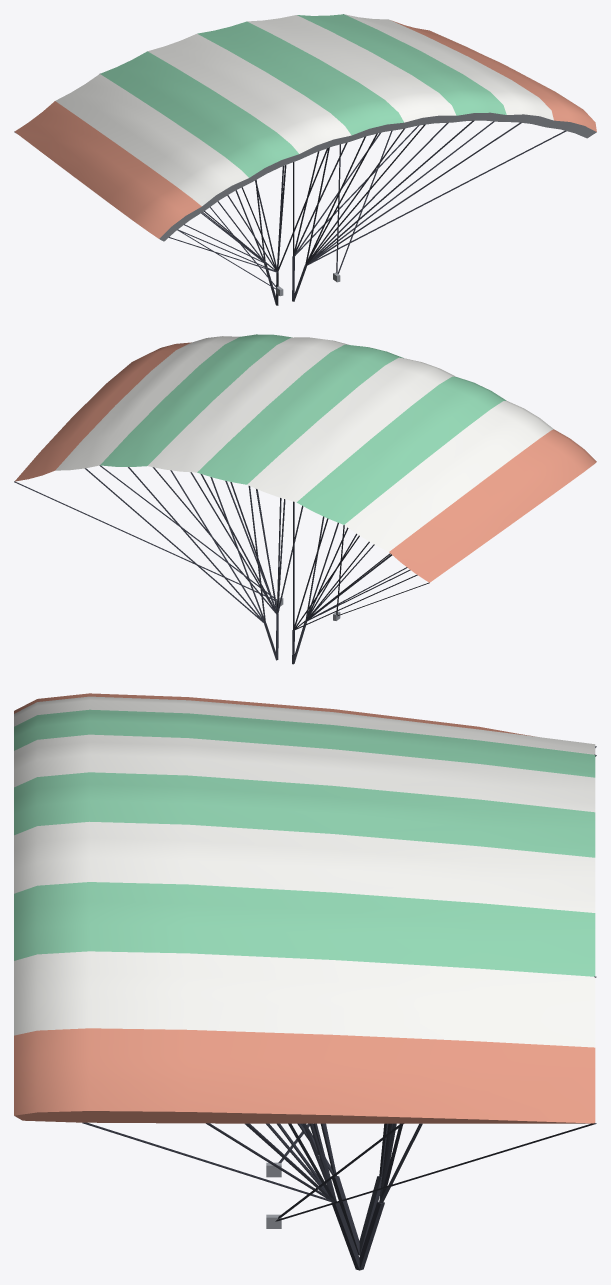
File: paracaidas.glb
3 views of the same model, one above another, from view 1: azimuth 30°, elevation 25°; view 2: azimuth 150°, elevation 25°; view 3: azimuth 270°, elevation 25° (orthographic). The views are drawn at different scales.
Parts seen in each view (by area): view 1: Paracaidas_malla; view 2: Paracaidas_malla; view 3: Paracaidas_malla.
Boxes of the visible parts, bbox=[...] form: Paracaidas_malla: bbox=[14, 14, 596, 305]; Paracaidas_malla: bbox=[14, 334, 596, 664]; Paracaidas_malla: bbox=[14, 693, 596, 1270].
Bounding box in the file's own units: 0.3 × 0.16 × 0.18.
